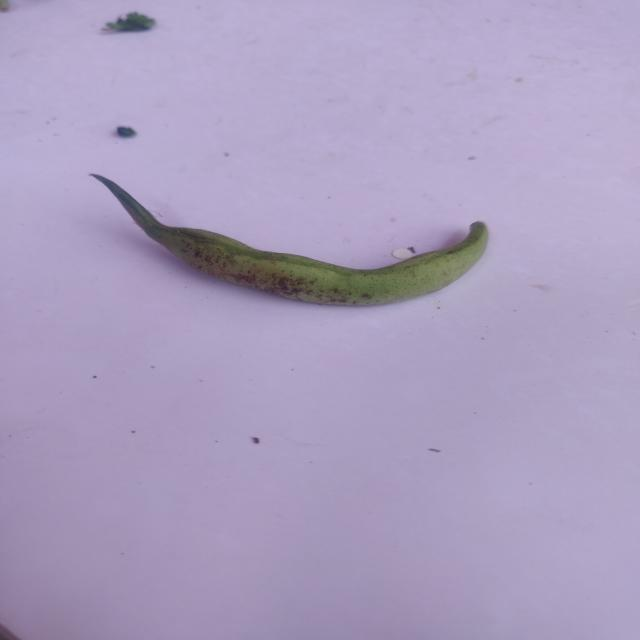Beans: (69, 156, 503, 313)
